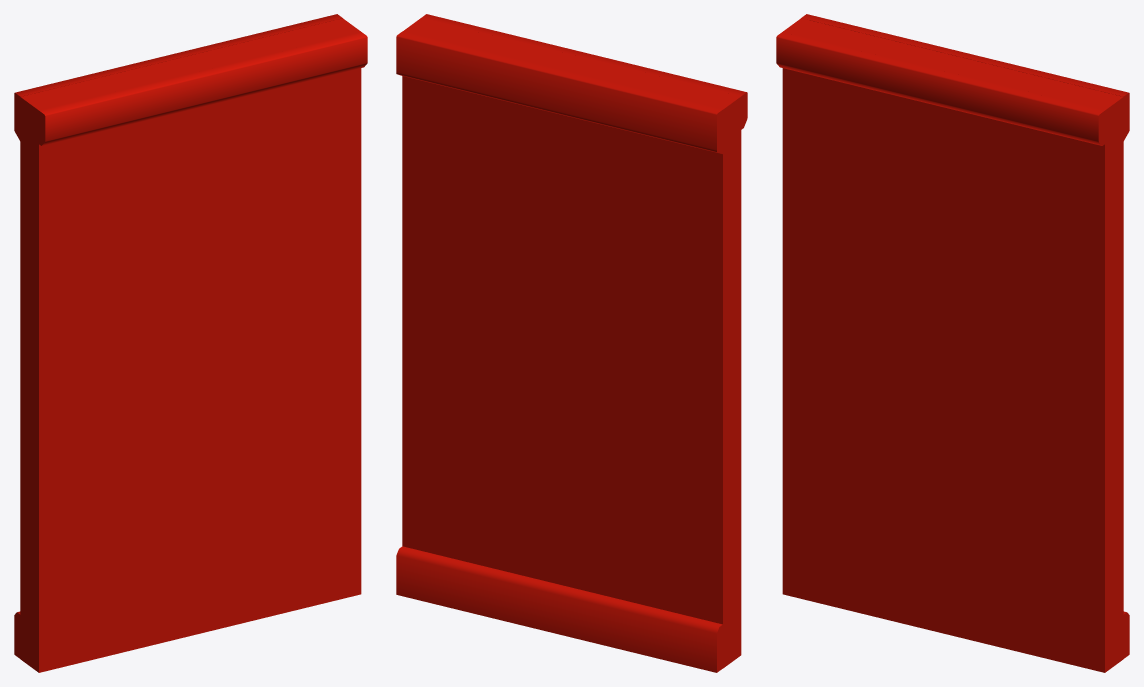
Rendered from IndBuilding1_Wall_Mid_C.fbx.
The picture shows the model from 3 angles, left to right: view 1: azimuth 30°, elevation 25°; view 2: azimuth 150°, elevation 25°; view 3: azimuth 330°, elevation 25°; orthographic projection.
Parts seen in each view (by area): view 1: IndBuilding1_Wall_Mid_C; view 2: IndBuilding1_Wall_Mid_C; view 3: IndBuilding1_Wall_Mid_C.
Boxes of the visible parts, left/top/right/bottom form: IndBuilding1_Wall_Mid_C: left=14, top=14, right=367, bottom=672; IndBuilding1_Wall_Mid_C: left=396, top=14, right=747, bottom=672; IndBuilding1_Wall_Mid_C: left=776, top=14, right=1129, bottom=672.
Bounding box in the file's own units: 3 × 5 × 0.4987.
